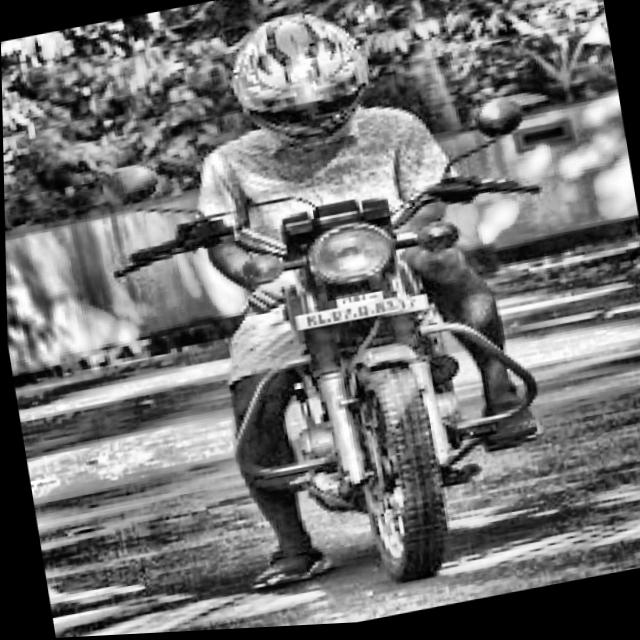motorcycle: (77, 70, 622, 630)
